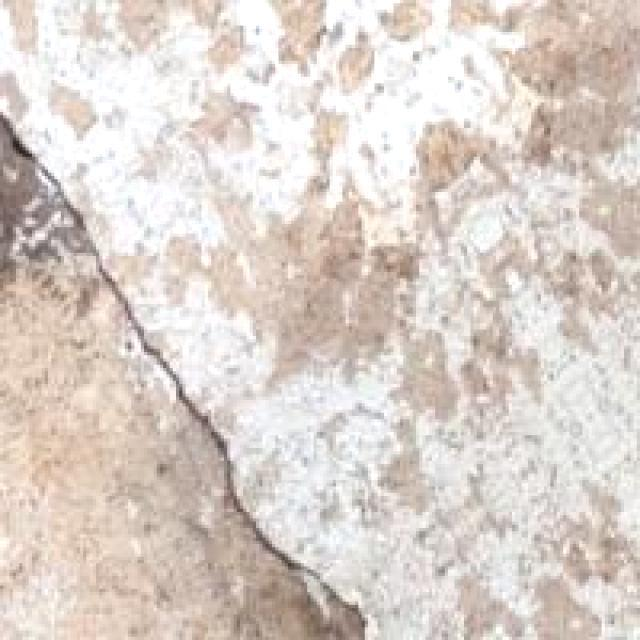crack: (0, 92, 400, 640)
